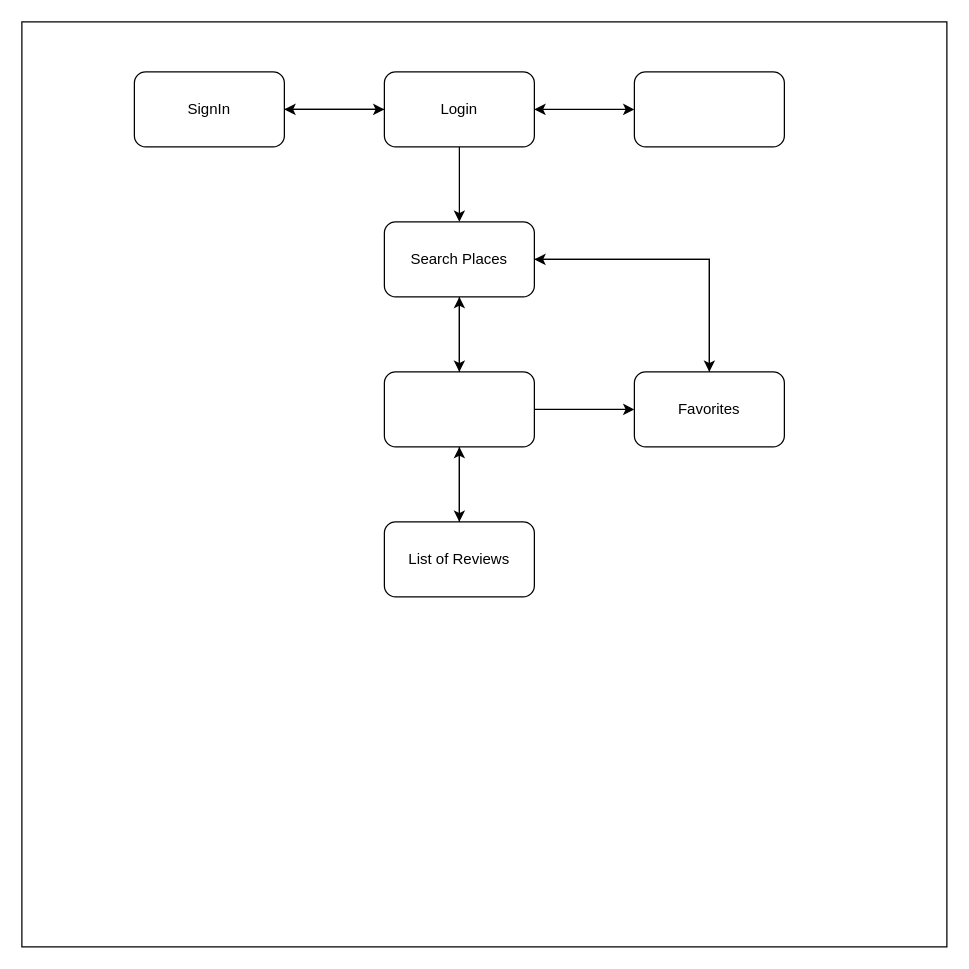
This 969x969 diagram has some shape labels left out. Here are the shapes that lost their labels. From the top down, the centre of each, then its label:
At (x=708, y=109): "Forgot Password".
At (x=458, y=409): "Place Info".
